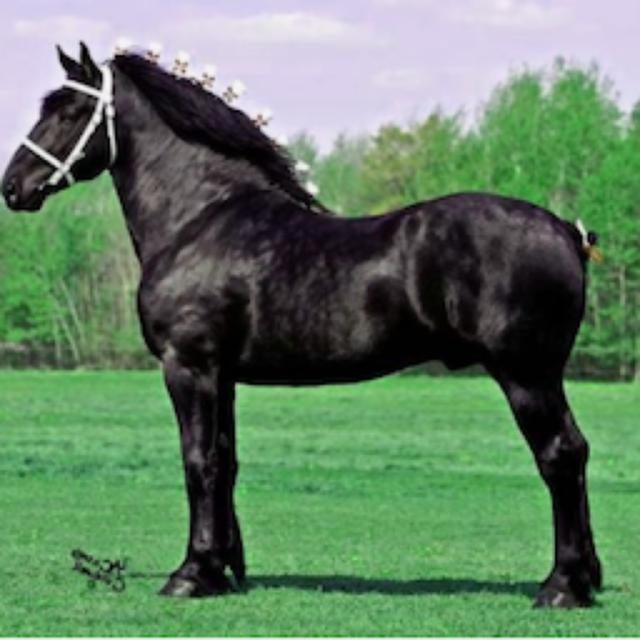Horse: (2, 35, 618, 613)
